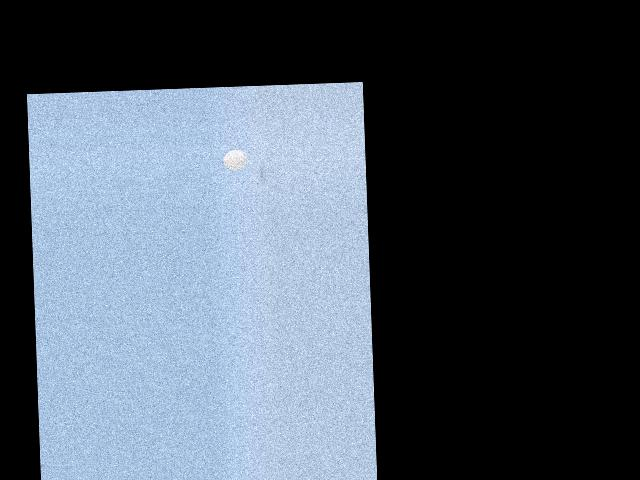egg: (223, 149, 249, 170)
